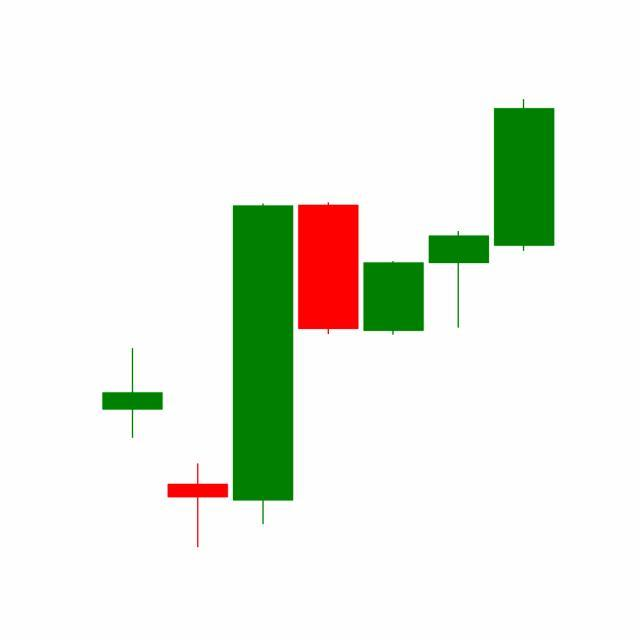Three Advancing White Soldiers: (360, 99, 556, 339)
